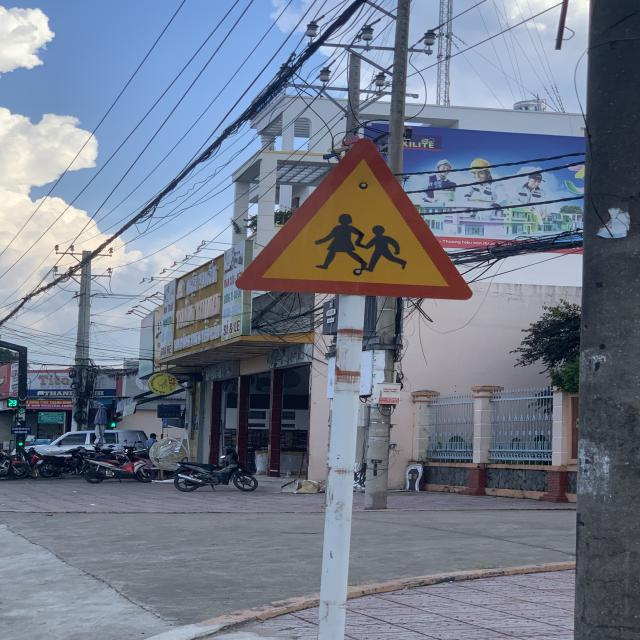Vong_Xuyen: (236, 137, 474, 301)
